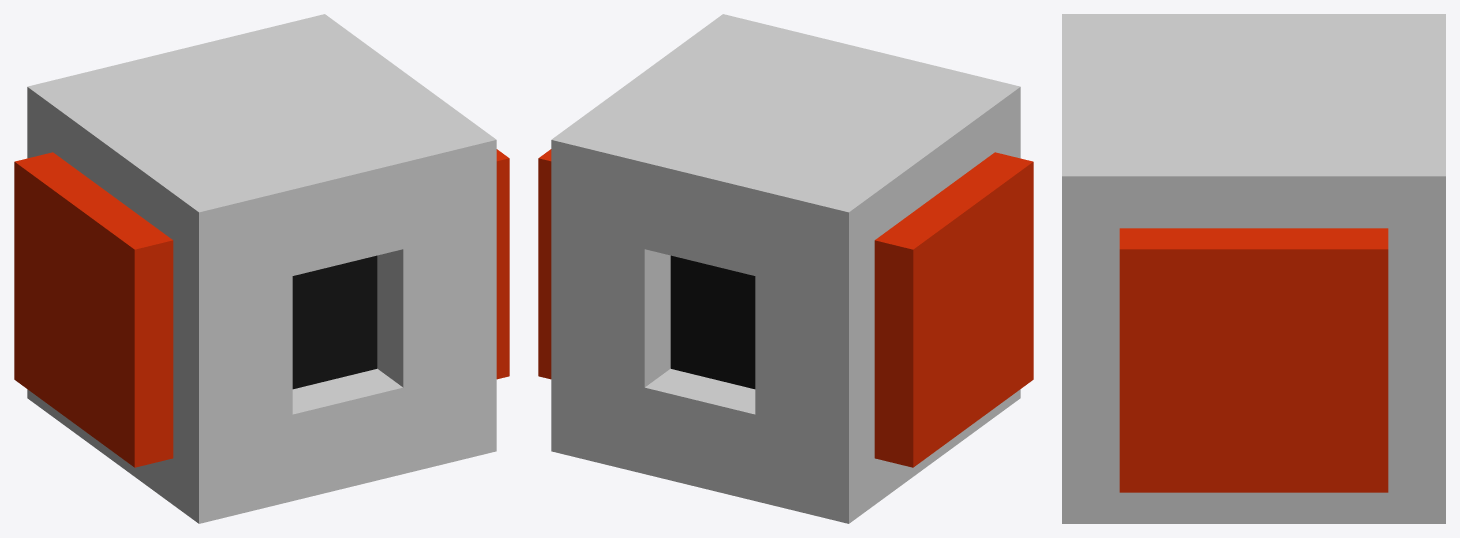
Rendered from piece_enemy_03.fbx.
The picture shows the model from 3 angles, left to right: view 1: azimuth 30°, elevation 25°; view 2: azimuth 150°, elevation 25°; view 3: azimuth 270°, elevation 25°; orthographic projection. The views are drawn at different scales.
Parts seen in each view (by area): view 1: Cube.004; view 2: Cube.004; view 3: Cube.004.
Part boxes in pixels (box(x1,y1,x2,y2)): Cube.004: box(14, 14, 509, 523); Cube.004: box(538, 14, 1033, 523); Cube.004: box(1062, 14, 1445, 523).
Bounding box in the file's own units: 126 × 100 × 100.
